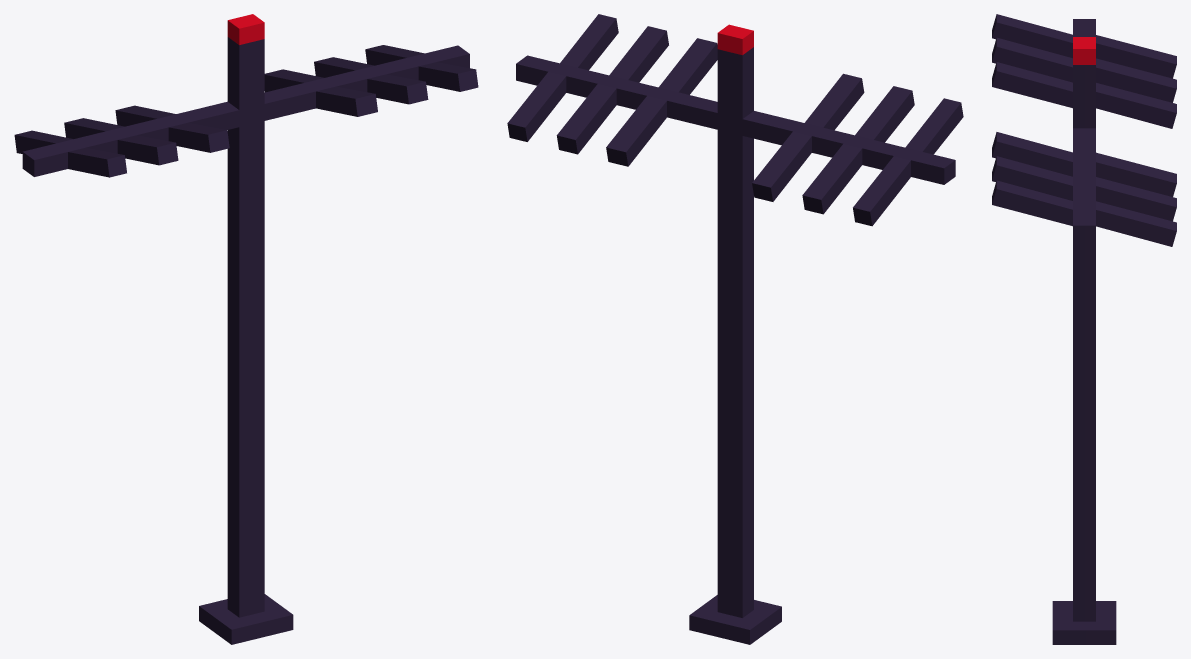
File: Building_RadarGuy.fbx
The picture shows the model from 3 angles, left to right: view 1: azimuth 30°, elevation 25°; view 2: azimuth 150°, elevation 25°; view 3: azimuth 270°, elevation 25°; orthographic projection. The views are drawn at different scales.
Visible parts, largest first — view 1: Double House Platform 01.001; view 2: Double House Platform 01.001; view 3: Double House Platform 01.001.
Part boxes in pixels (x1=…): Double House Platform 01.001: x1=14, y1=14, x2=478, y2=644; Double House Platform 01.001: x1=507, y1=14, x2=963, y2=644; Double House Platform 01.001: x1=992, y1=14, x2=1176, y2=644.
Size of the model in its own units: 134 by 177 by 50.5.
